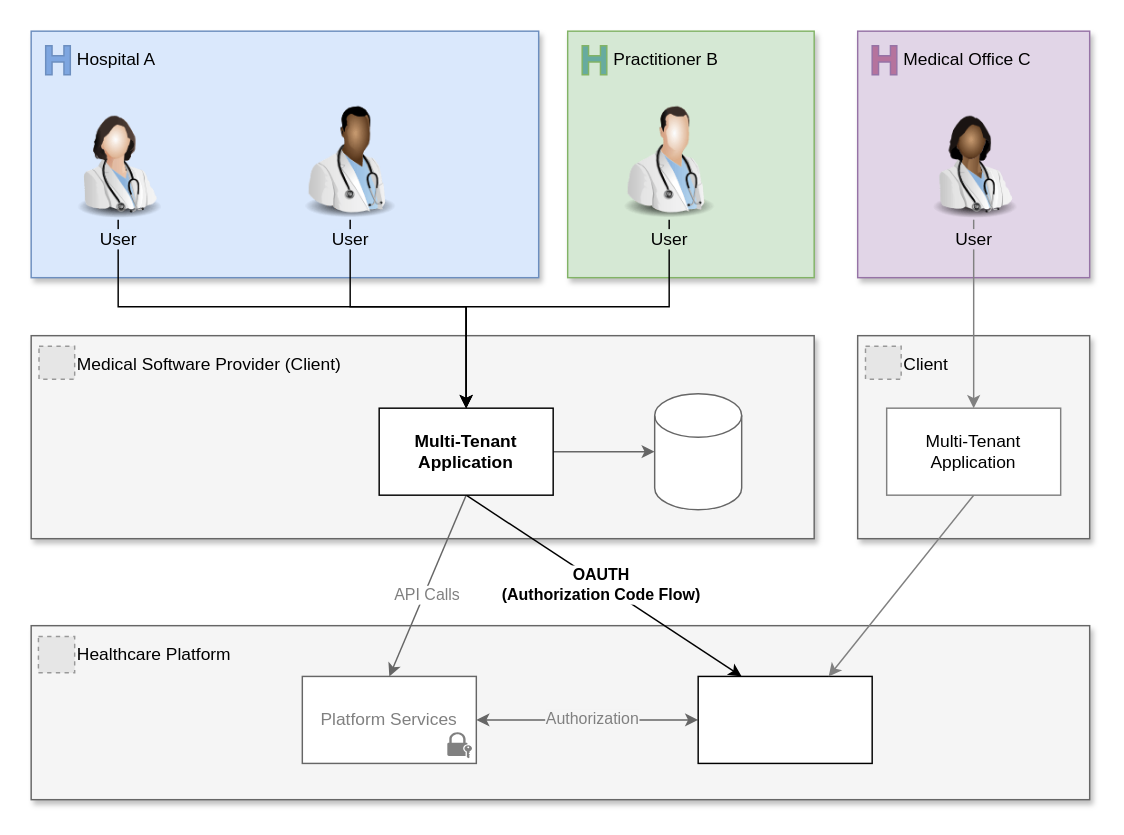
Image size: 1124x835. Some labels were removed from this diagram. Grey dashed boxes stand in for pictures. The centre of each missing label's shape, as x and y in pixels:
"DB" belongs at (x=697, y=451).
"Platform IDP" belongs at (x=784, y=719).
